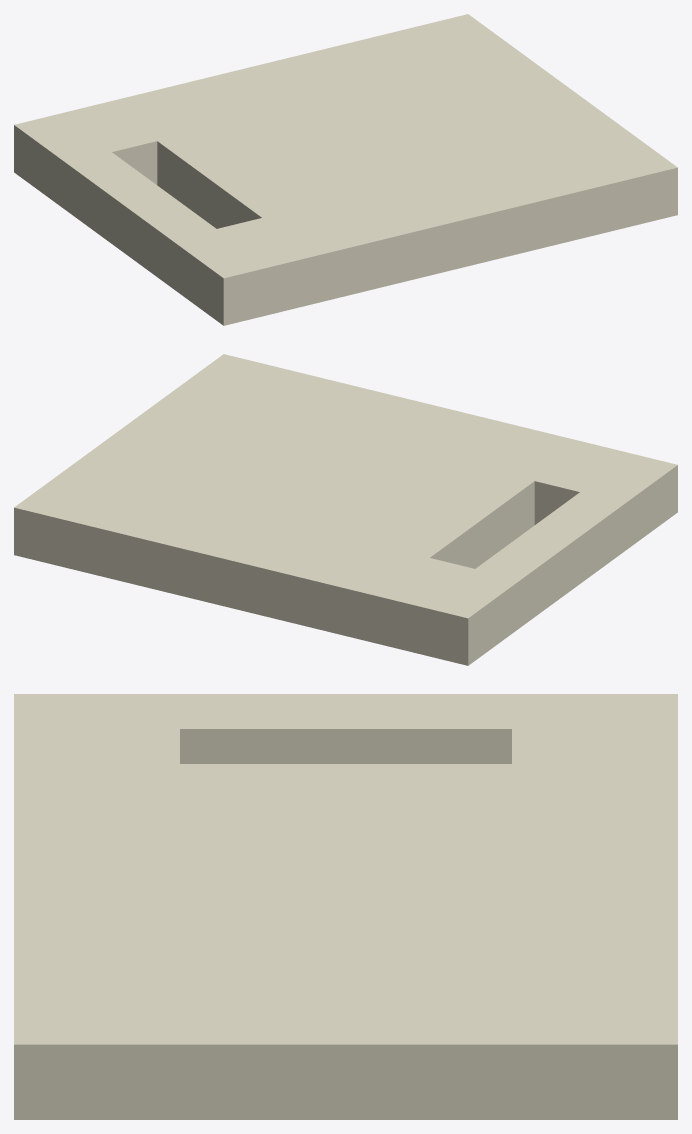
The model's file is CuttingBoard.fbx.
3 views of the same model, one above another, from view 1: azimuth 30°, elevation 25°; view 2: azimuth 150°, elevation 25°; view 3: azimuth 270°, elevation 25° (orthographic). The views are drawn at different scales.
Visible parts, largest first — view 1: cuttingboard; view 2: cuttingboard; view 3: cuttingboard.
Boxes of the visible parts, left/top/right/bottom form: cuttingboard: left=14, top=14, right=677, bottom=325; cuttingboard: left=14, top=354, right=677, bottom=665; cuttingboard: left=14, top=694, right=677, bottom=1119.
Bounding box in the file's own units: 200 × 20 × 160.
1 material, 1 textured.
